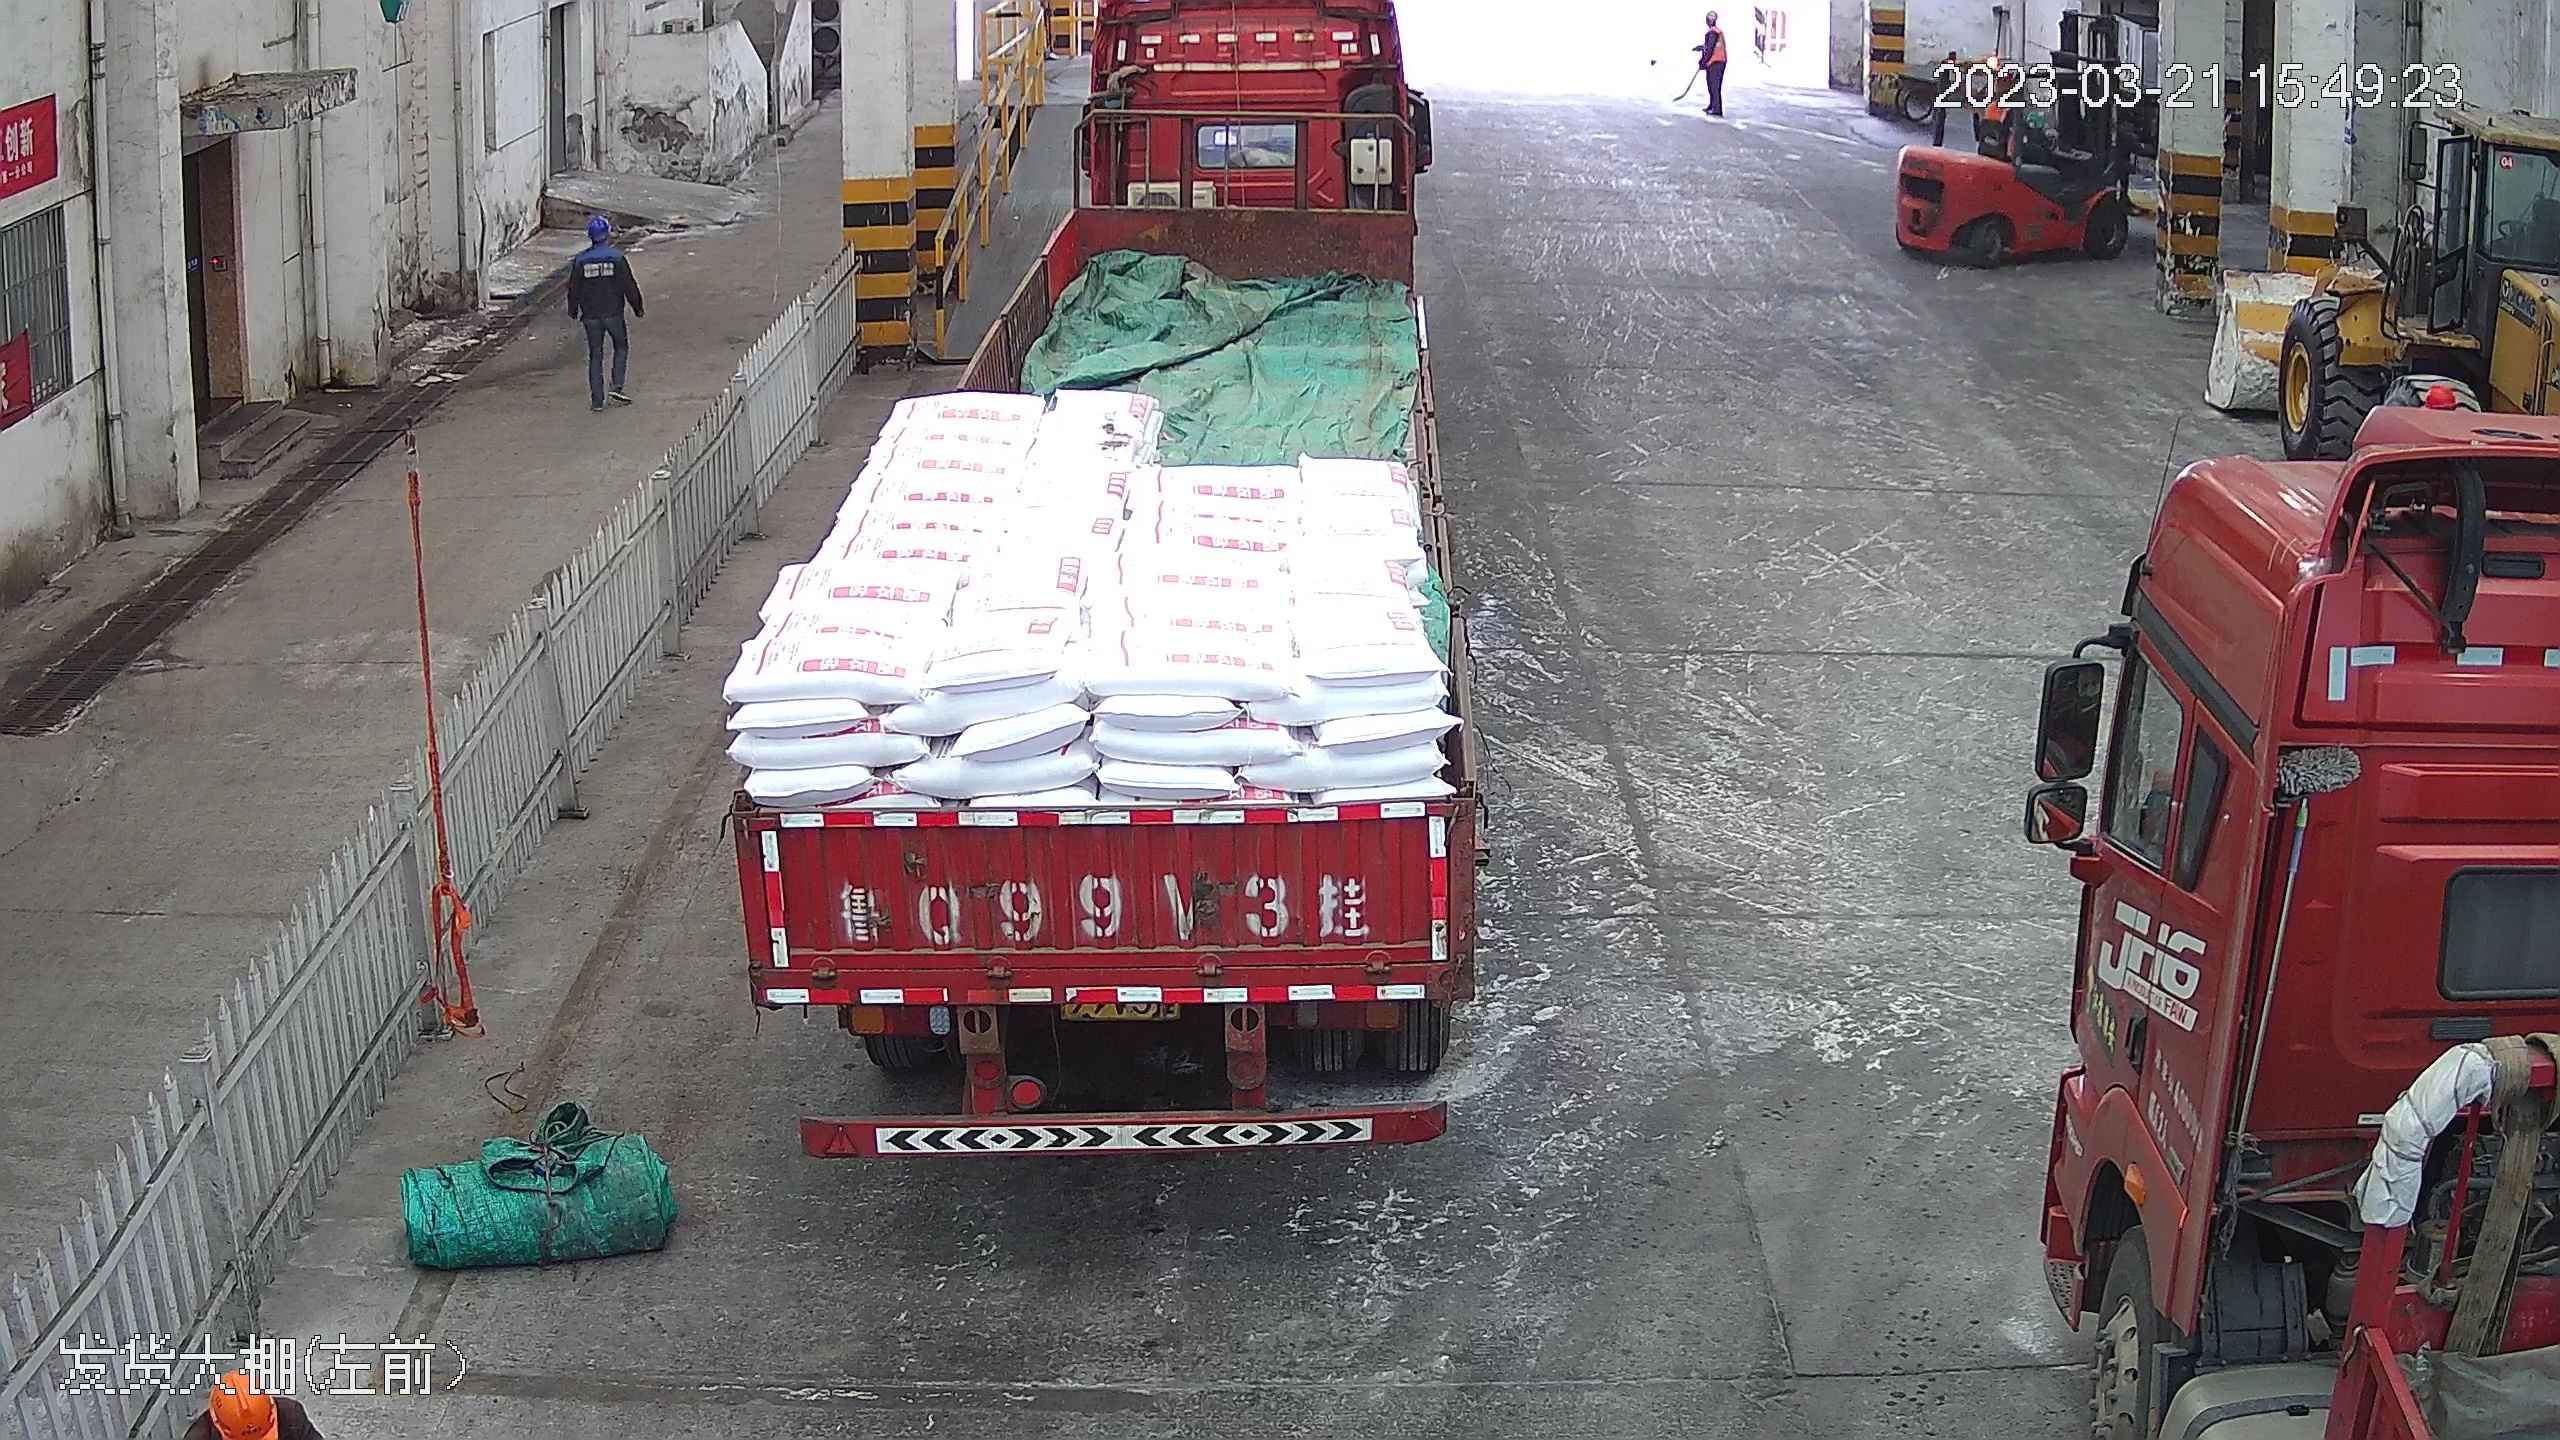head: (570, 209, 631, 273), (1699, 9, 1726, 49)
helmet: (2422, 380, 2458, 419), (585, 208, 613, 229), (1704, 10, 1718, 22)
people: (562, 205, 649, 414), (1690, 12, 1734, 118)
truck: (713, 1, 1484, 1156), (2020, 376, 2560, 1440)
